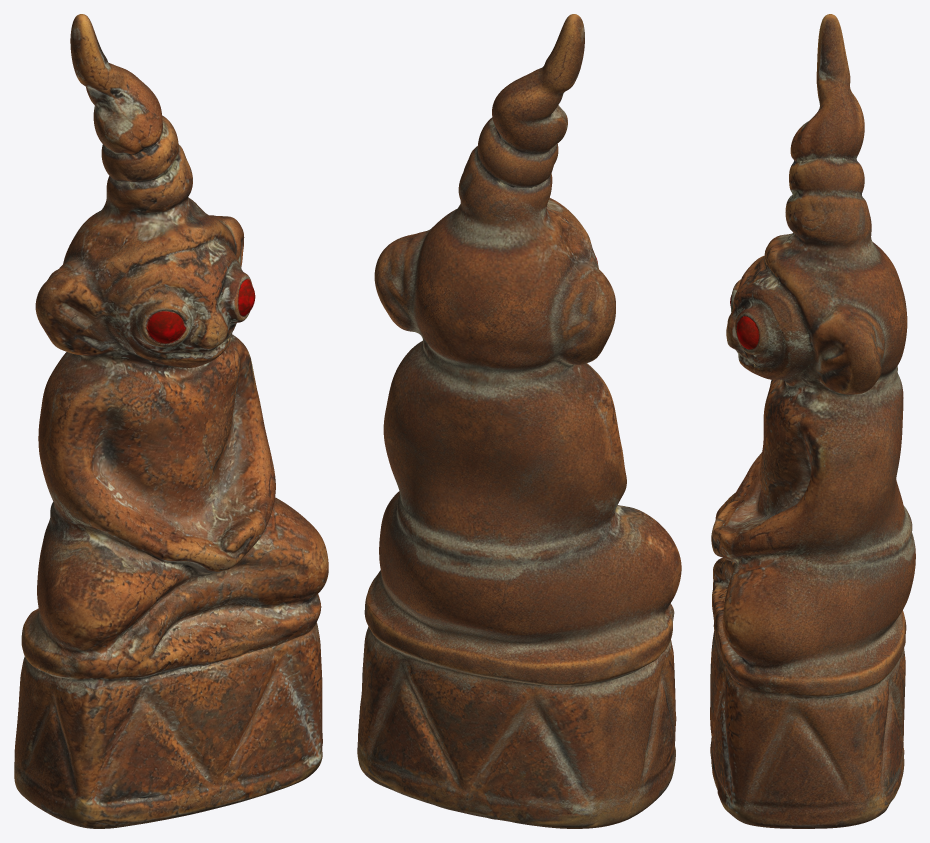
Rendered from original-ngang.glb.
The picture shows the model from 3 angles, left to right: view 1: azimuth 30°, elevation 25°; view 2: azimuth 150°, elevation 25°; view 3: azimuth 270°, elevation 25°; orthographic projection. The views are drawn at different scales.
Visible parts, largest first — view 1: Mesh_0; view 2: Mesh_0; view 3: Mesh_0.
Part boxes in pixels (bbox=[...]): Mesh_0: bbox=[14, 14, 328, 828]; Mesh_0: bbox=[357, 14, 681, 828]; Mesh_0: bbox=[710, 14, 915, 828].
Size of the model in its own units: 0.7112 by 1.9 by 0.4891.
1 material, 1 textured.
